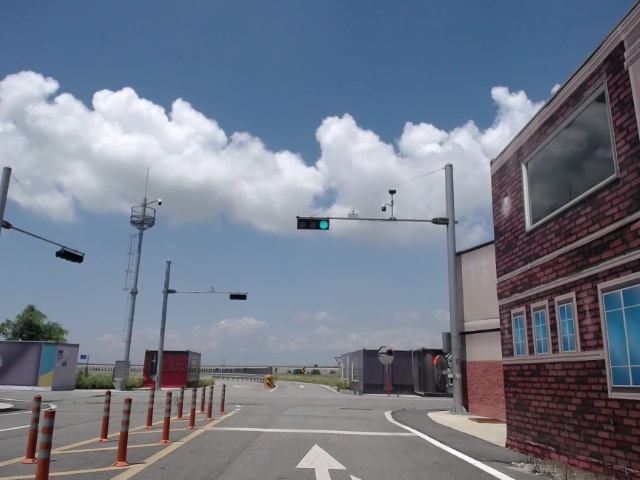green_3: (296, 220, 330, 230)
